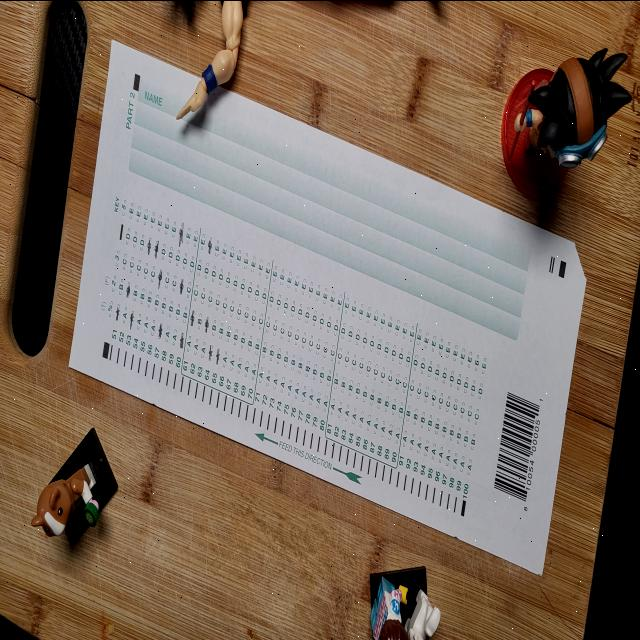scantron_back: (69, 35, 588, 577)
